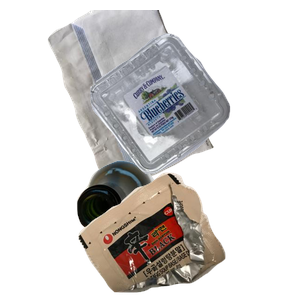glass: (74, 158, 223, 300)
paper: (45, 10, 251, 190)
plastic: (88, 31, 300, 198)
trash: (76, 170, 300, 300)
